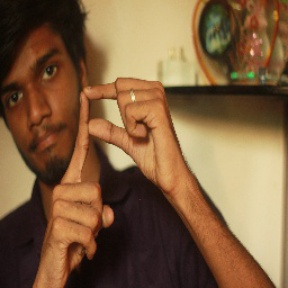P: (41, 72, 181, 246)
